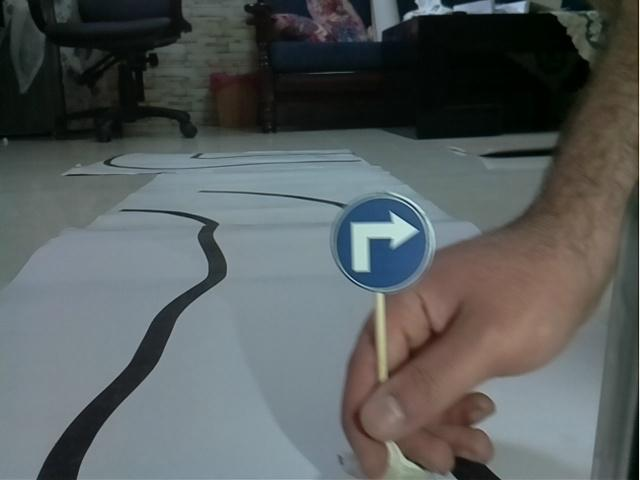turn: (330, 191, 435, 297)
